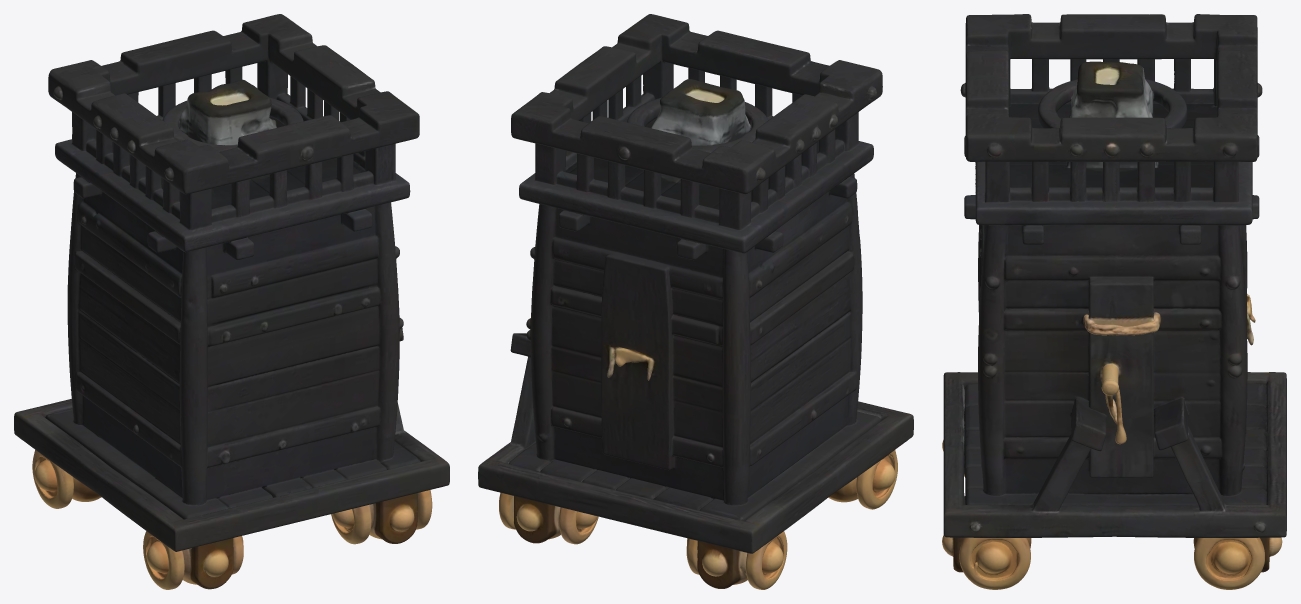
3 views of the same model, side by side, from view 1: azimuth 30°, elevation 25°; view 2: azimuth 150°, elevation 25°; view 3: azimuth 270°, elevation 25° (orthographic). The views are drawn at different scales.
Parts seen in each view (by area): view 1: tripo_node_1b86cd51-a077-4b30-a3d7-b2d06493582e; view 2: tripo_node_1b86cd51-a077-4b30-a3d7-b2d06493582e; view 3: tripo_node_1b86cd51-a077-4b30-a3d7-b2d06493582e.
Boxes of the visible parts, left/top/right/bottom form: tripo_node_1b86cd51-a077-4b30-a3d7-b2d06493582e: left=14, top=14, right=449, bottom=589; tripo_node_1b86cd51-a077-4b30-a3d7-b2d06493582e: left=478, top=14, right=913, bottom=589; tripo_node_1b86cd51-a077-4b30-a3d7-b2d06493582e: left=942, top=14, right=1286, bottom=589.
Size of the model in its own units: 0.7212 by 1 by 0.6879.
1 material, 1 textured.
